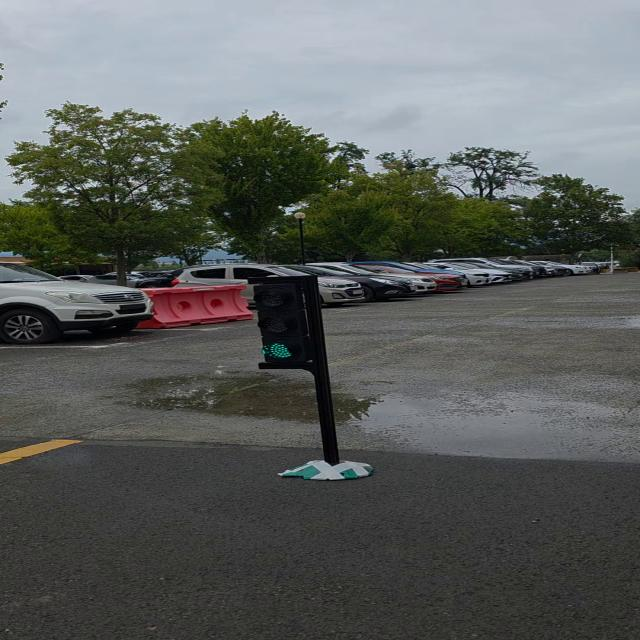green: (250, 276, 322, 368)
